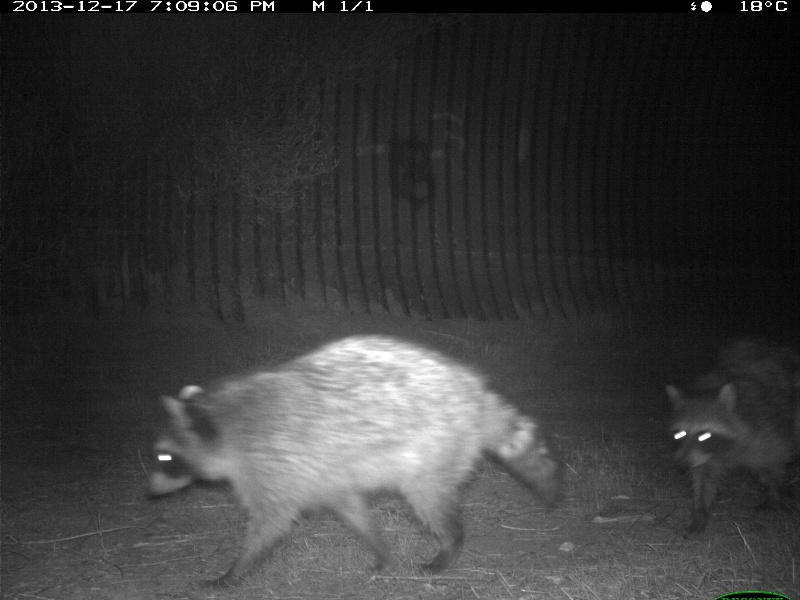raccoon: (145, 332, 565, 589), (663, 337, 797, 542)
